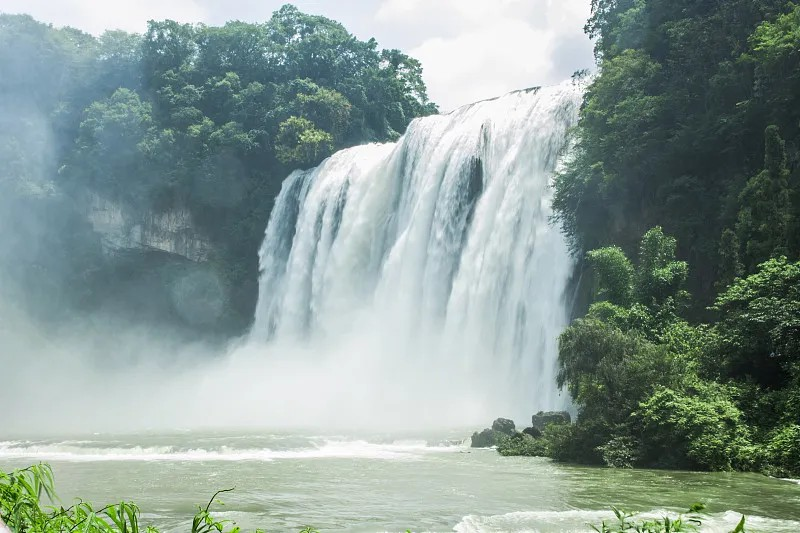Huangguoshu: (239, 79, 591, 439)
